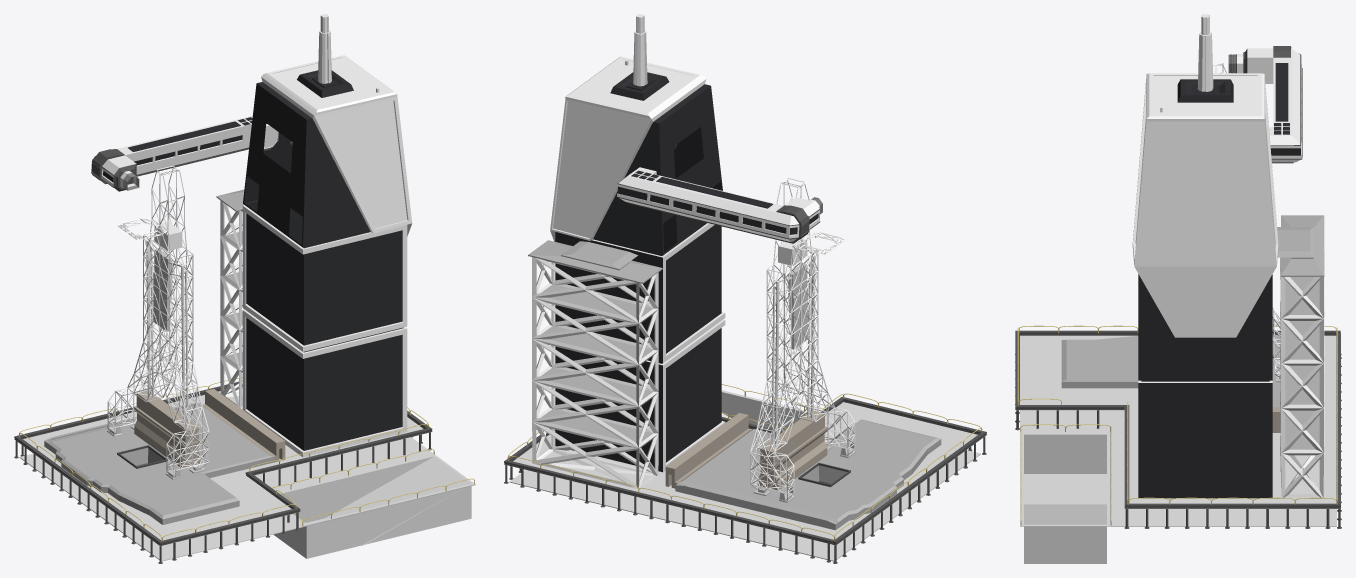
Rendered from falcon_launch_pad.glb.
3 renders of one model, left to right at view 1: azimuth 30°, elevation 25°; view 2: azimuth 150°, elevation 25°; view 3: azimuth 270°, elevation 25°, orthographic. The views are drawn at different scales.
Parts seen in each view (by area): view 1: Object_26, Object_27, Object_6, Object_43, Object_32, Object_44, Object_7, Object_25, Object_33, Object_28, Object_11; view 2: Object_26, Object_44, Object_43, Object_27, Object_6, Object_32, Object_7, Object_25, Object_33, Object_28, Object_12, Object_11; view 3: Object_6, Object_27, Object_26, Object_43, Object_44, Object_7, Object_9, Object_32.
Part boxes in pixels (bbox=[...]): Object_26: bbox=[103, 70, 403, 450]; Object_27: bbox=[15, 386, 475, 561]; Object_6: bbox=[120, 55, 412, 457]; Object_43: bbox=[44, 189, 273, 524]; Object_32: bbox=[107, 165, 209, 478]; Object_44: bbox=[101, 14, 331, 409]; Object_7: bbox=[14, 139, 432, 545]; Object_25: bbox=[134, 389, 285, 467]; Object_33: bbox=[140, 218, 188, 423]; Object_28: bbox=[107, 248, 205, 479]; Object_11: bbox=[14, 441, 162, 563]; Object_26: bbox=[555, 72, 818, 472]; Object_44: bbox=[532, 14, 819, 488]; Object_43: bbox=[528, 240, 941, 530]; Object_27: bbox=[504, 390, 986, 561]; Object_6: bbox=[550, 56, 819, 471]; Object_32: bbox=[750, 178, 855, 500]; Object_7: bbox=[504, 172, 986, 545]; Object_25: bbox=[665, 410, 828, 490]; Object_33: bbox=[771, 231, 821, 444]; Object_28: bbox=[753, 263, 855, 502]; Object_12: bbox=[504, 465, 830, 562]; Object_11: bbox=[833, 436, 986, 563]; Object_6: bbox=[1132, 54, 1278, 382]; Object_27: bbox=[1015, 335, 1340, 563]; Object_26: bbox=[1138, 63, 1301, 498]; Object_43: bbox=[1061, 215, 1324, 449]; Object_44: bbox=[1197, 14, 1324, 497]; Object_7: bbox=[1015, 46, 1340, 508]; Object_9: bbox=[1124, 509, 1330, 528]; Object_32: bbox=[1212, 63, 1280, 376].
Bounding box in the file's own units: 33.52 × 45.66 × 26.39.
